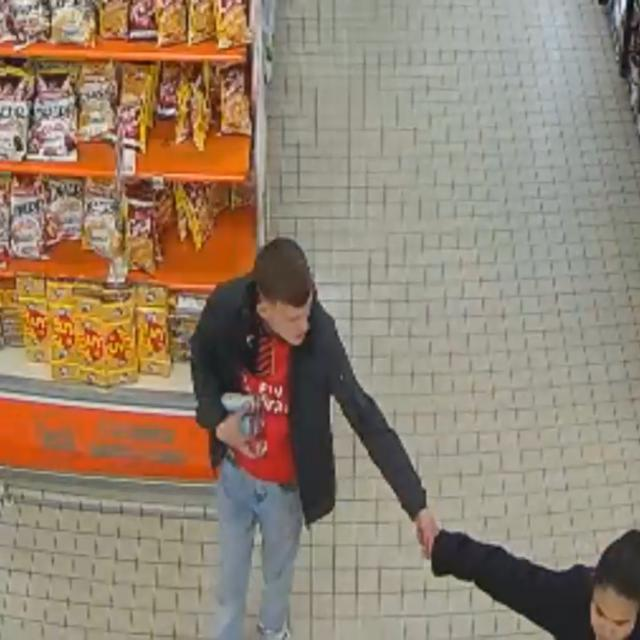article: (221, 393, 261, 414), (249, 438, 267, 455), (242, 416, 255, 435), (254, 415, 264, 433)
hands: (216, 406, 255, 457), (415, 509, 439, 559)
person: (192, 238, 436, 639), (432, 530, 639, 639)
